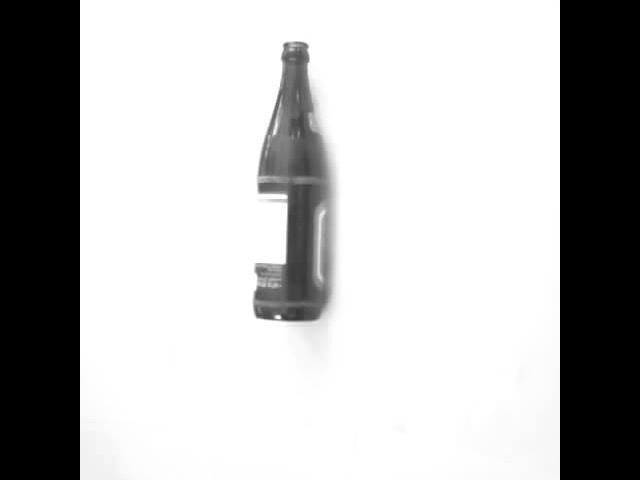Glass: (250, 41, 338, 325)
